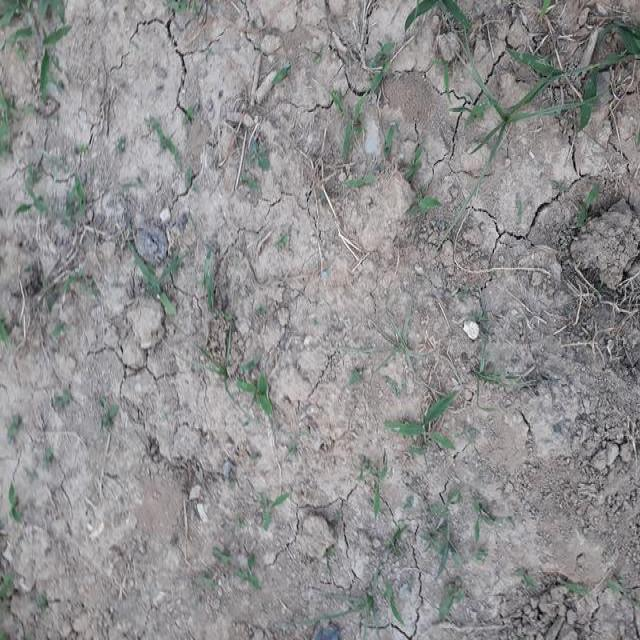weed: (0, 0, 71, 90), (468, 90, 564, 154), (422, 494, 467, 588), (122, 260, 193, 310), (324, 84, 364, 172), (393, 407, 456, 450), (403, 0, 465, 41), (236, 383, 282, 415)
